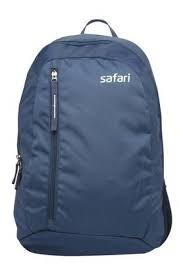backpack: (11, 18, 172, 256)
